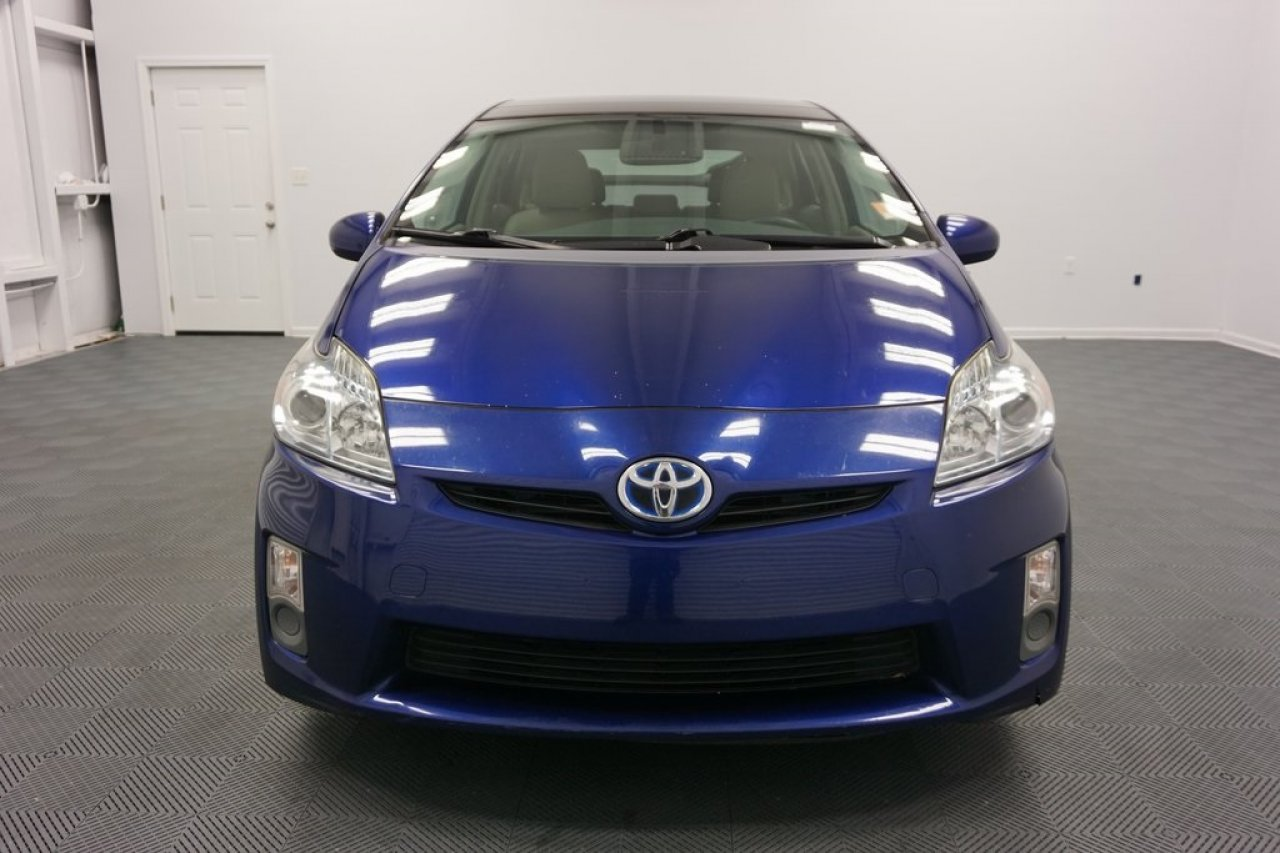Toyota Prius: (255, 97, 1070, 737)
